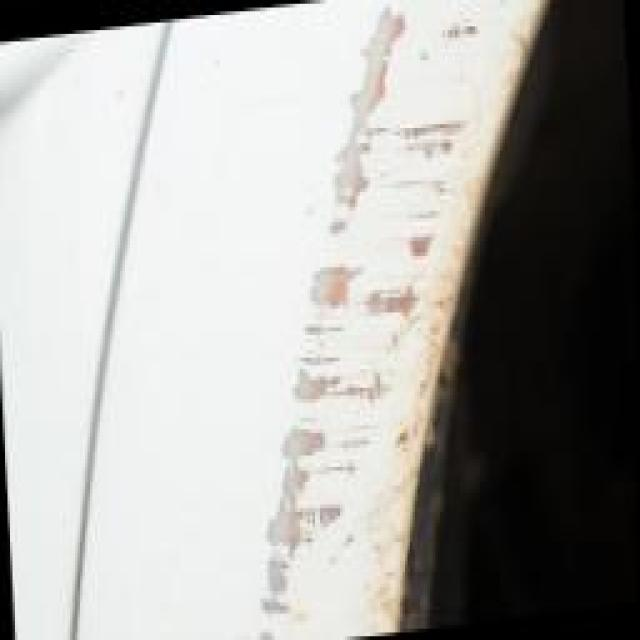Fender: (190, 0, 565, 640)
